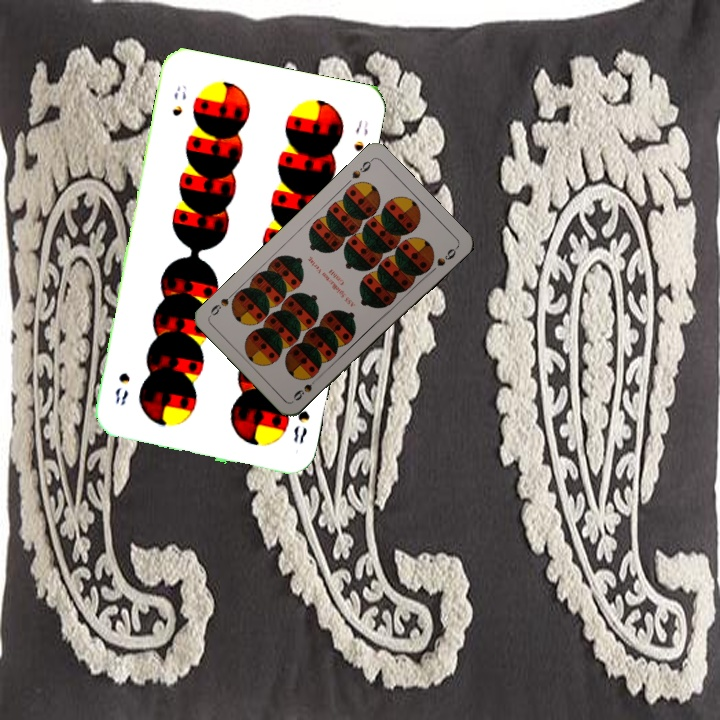S8: (289, 406, 312, 445), (168, 80, 190, 119)
S9: (289, 372, 322, 403), (348, 155, 375, 181)
